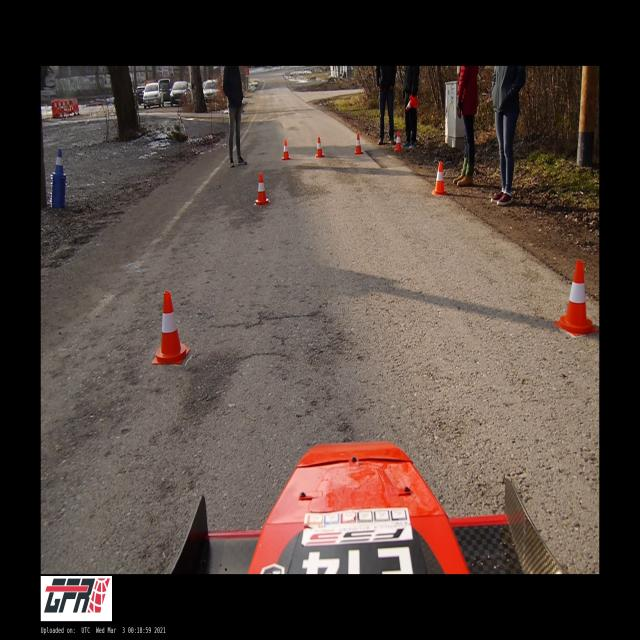blue_cone: (52, 149, 66, 177)
orange_cone: (554, 260, 598, 336), (152, 292, 190, 364), (432, 162, 447, 195), (255, 173, 269, 204), (405, 94, 418, 110), (354, 134, 363, 154), (394, 130, 402, 151), (282, 140, 290, 160), (316, 137, 324, 157)
